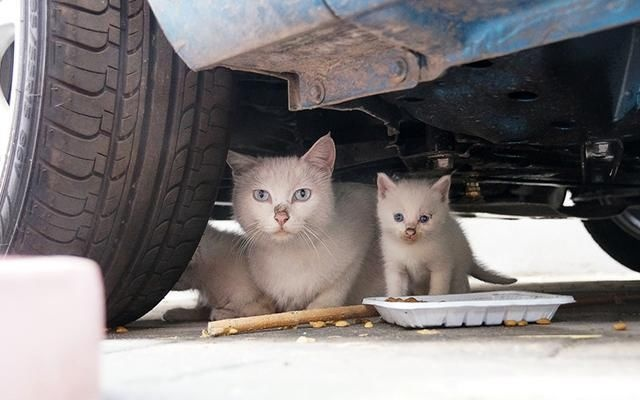cat: (224, 132, 379, 314), (375, 171, 518, 297), (162, 221, 277, 322)
